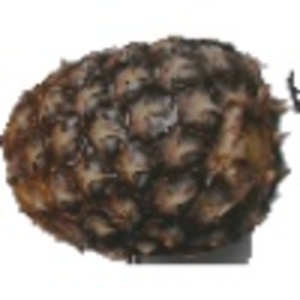abacaxi: (3, 28, 286, 256)
